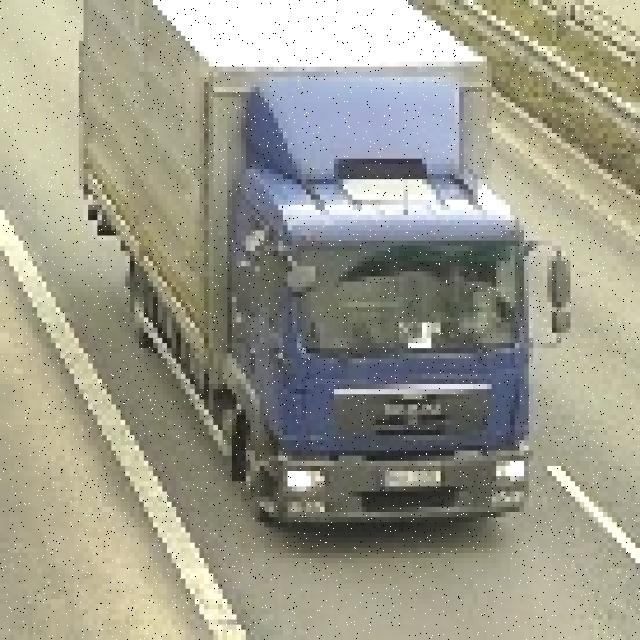truck: (79, 0, 575, 532)
